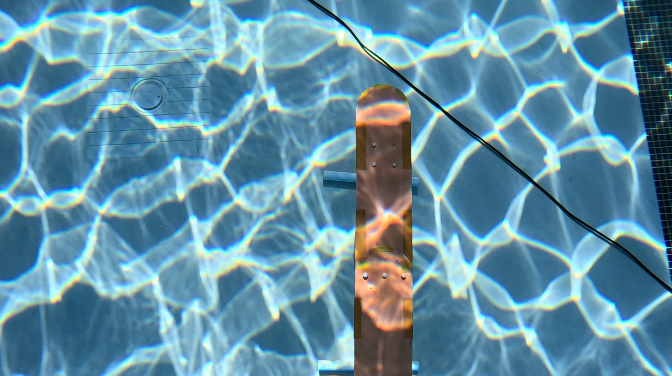pathmarker: (355, 86, 411, 375)
